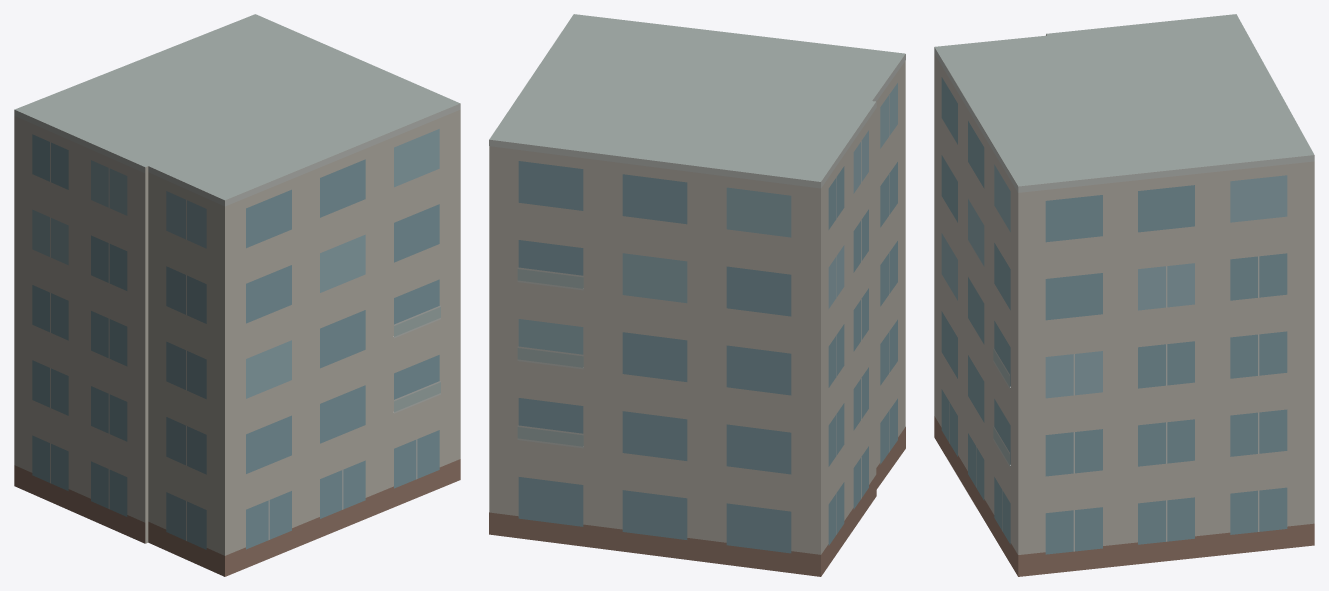
File: survey-upis-32717194.glb
The picture shows the model from 3 angles, left to right: view 1: azimuth 30°, elevation 25°; view 2: azimuth 150°, elevation 25°; view 3: azimuth 270°, elevation 25°; orthographic projection. The views are drawn at different scales.
Parts seen in each view (by area): view 1: survey-upis-32717194.tmp; view 2: survey-upis-32717194.tmp; view 3: survey-upis-32717194.tmp.
Part boxes in pixels (x1,y1,x2,y2): survey-upis-32717194.tmp: (14, 14, 460, 576); survey-upis-32717194.tmp: (489, 14, 905, 576); survey-upis-32717194.tmp: (934, 14, 1314, 576).
Size of the model in its own units: 14.13 by 14.9 by 13.17.
